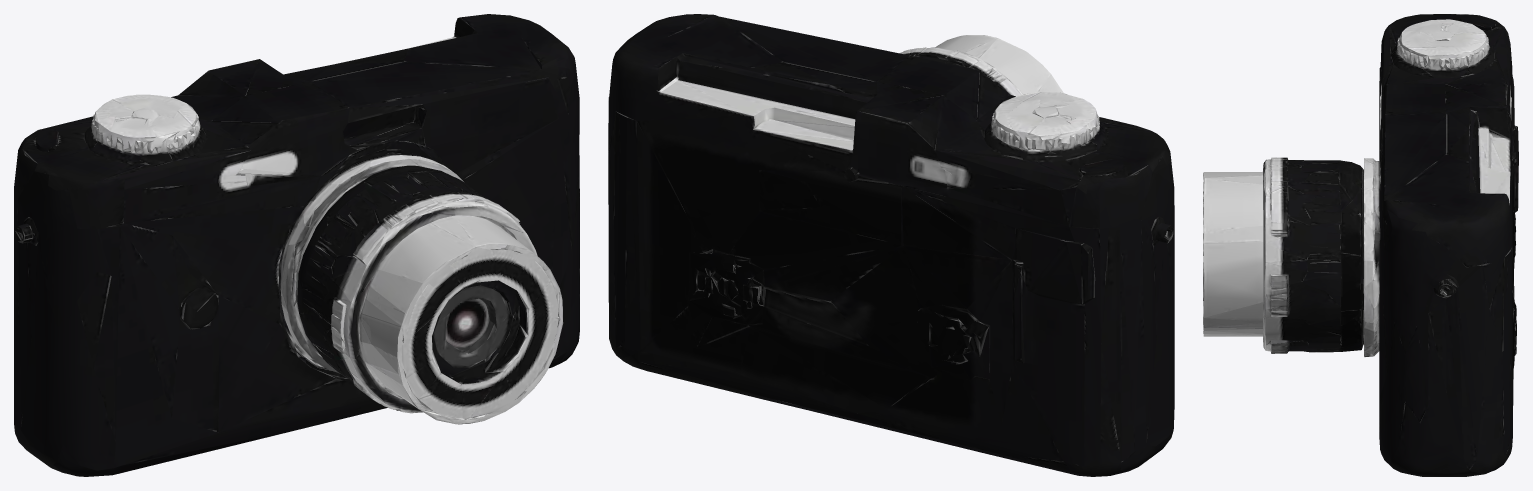
The model's file is compact_camera.glb.
3 views of the same model, side by side, from view 1: azimuth 30°, elevation 25°; view 2: azimuth 150°, elevation 25°; view 3: azimuth 270°, elevation 25° (orthographic). The views are drawn at different scales.
Bounding box in the file's own units: 1.9 × 1.06 × 1.11.
1 material, 1 textured.
